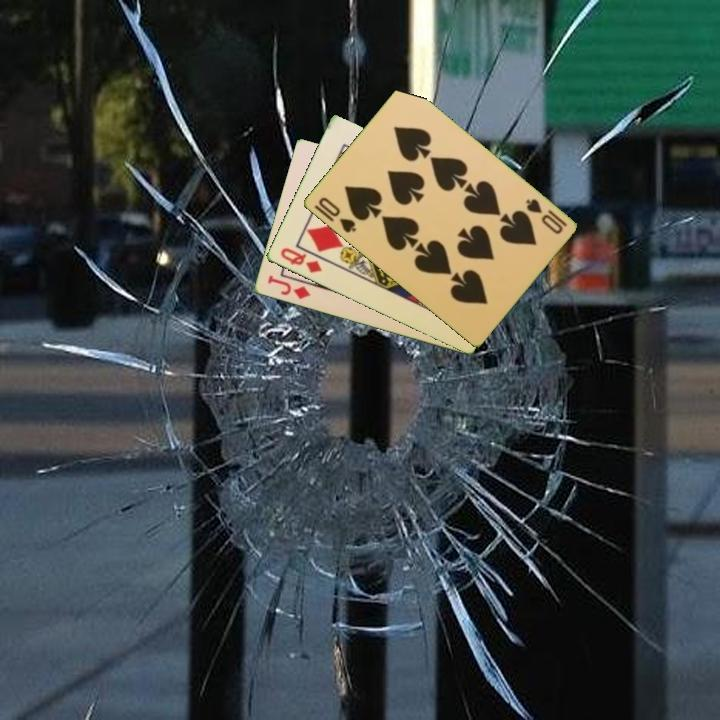10s: (522, 195, 570, 237), (314, 193, 359, 236)
Jd: (264, 272, 313, 302)
Qd: (276, 244, 324, 276)
